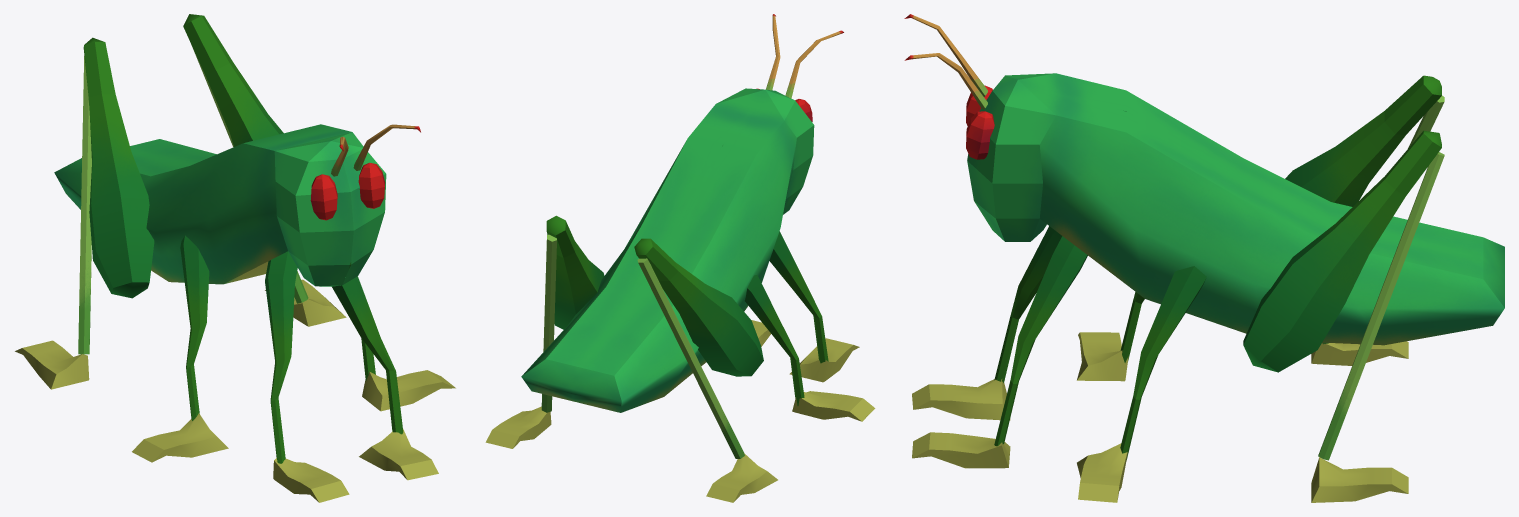
File: Grasshopper.fbx
The picture shows the model from 3 angles, left to right: view 1: azimuth 30°, elevation 25°; view 2: azimuth 150°, elevation 25°; view 3: azimuth 270°, elevation 25°; orthographic projection. The views are drawn at different scales.
Parts seen in each view (by area): view 1: Antenna1, Body; view 2: Body, Antenna1; view 3: Body, Antenna1.
Boxes of the visible parts, x1,y1,x2,y2 form: Antenna1: (15,14,455,502); Body: (54,124,386,286); Body: (521,88,814,412); Antenna1: (485,14,875,502); Body: (967,73,1504,345); Antenna1: (904,14,1444,502).
Size of the model in its own units: 4.45 by 4.96 by 6.75.
Materials: 1 (1 with a texture image).
